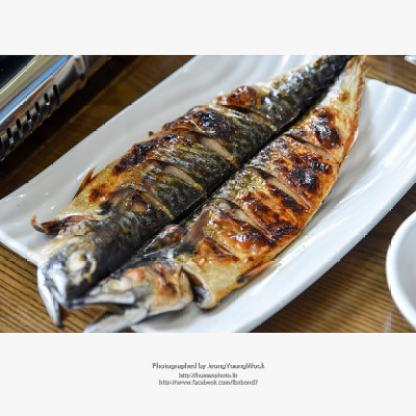Peixe: (20, 39, 383, 335)
